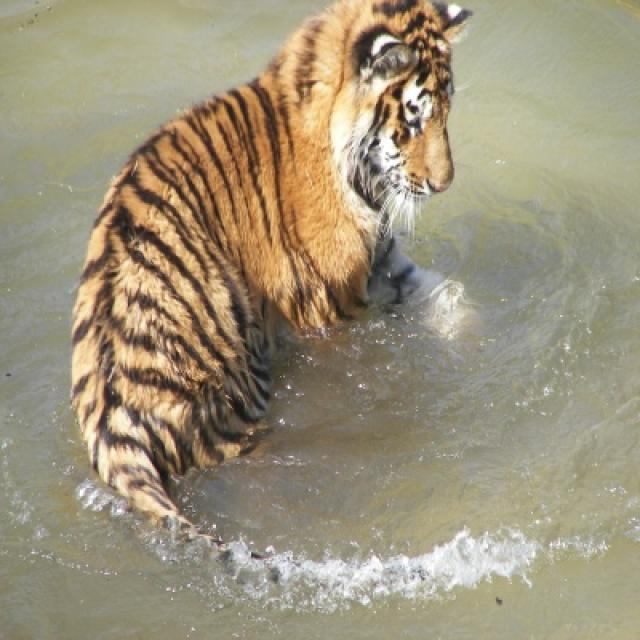Tiger: (72, 0, 470, 538)
